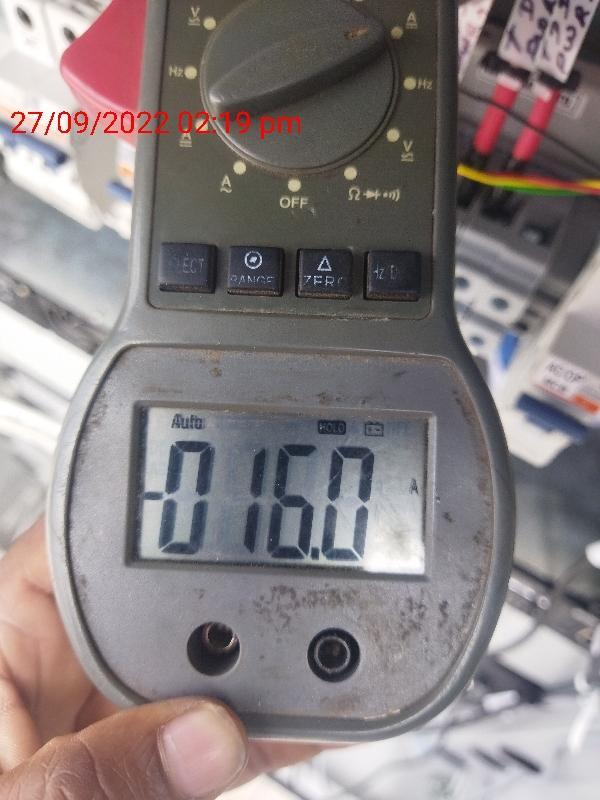ClampMeter_Display: (124, 402, 435, 581)
